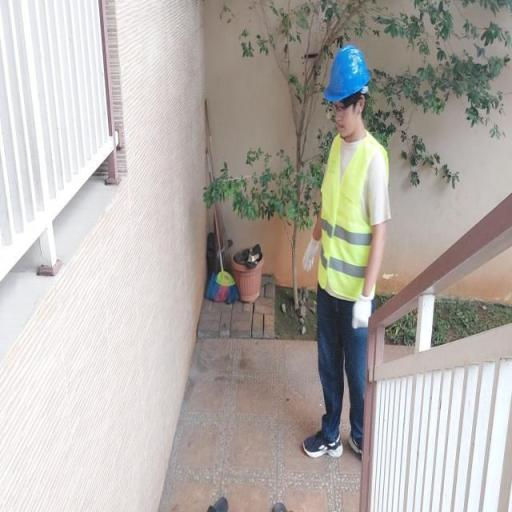Person: (268, 15, 406, 498)
boots: (298, 424, 345, 460), (346, 432, 372, 458)
gloves: (300, 238, 329, 269), (349, 298, 377, 327)
helmet: (320, 40, 376, 106)
vest: (314, 127, 390, 300)
